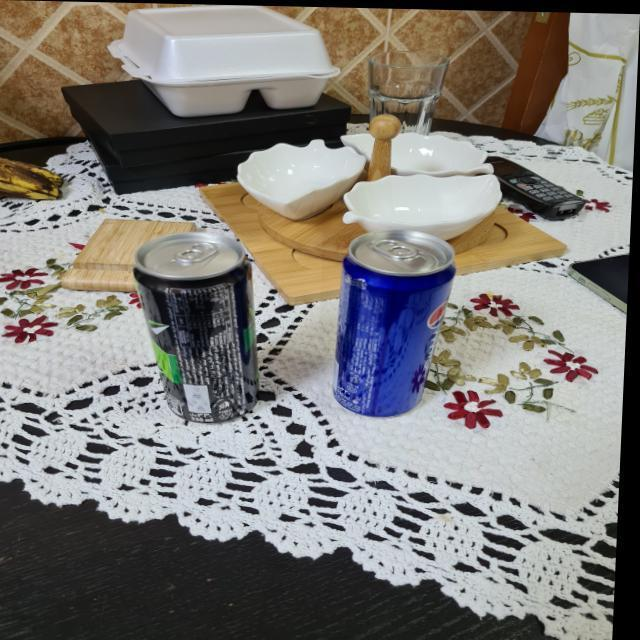trash: (127, 230, 261, 424)
